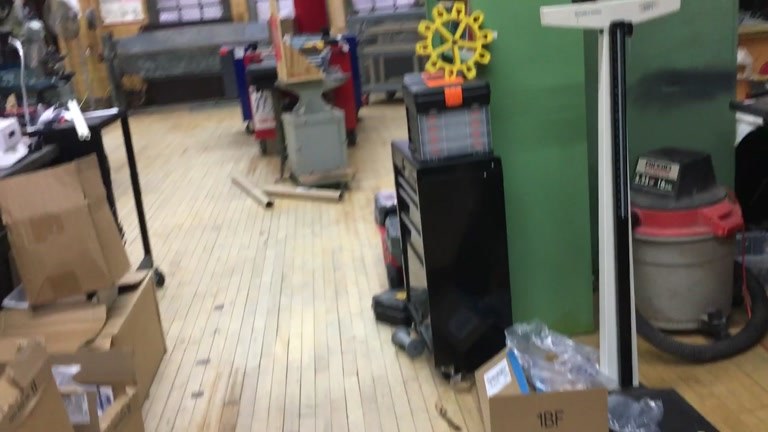gear: (415, 1, 494, 81)
